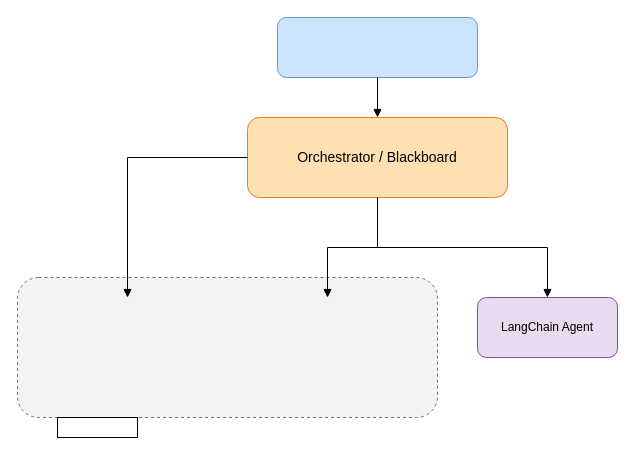
Image size: 635x455. Some labels were removed from this diagram. Here are the shapes that lost their labels. From the top down, the centre of each, then its label:
(x=377, y=47): Dashboard
(x=97, y=427): Docker
